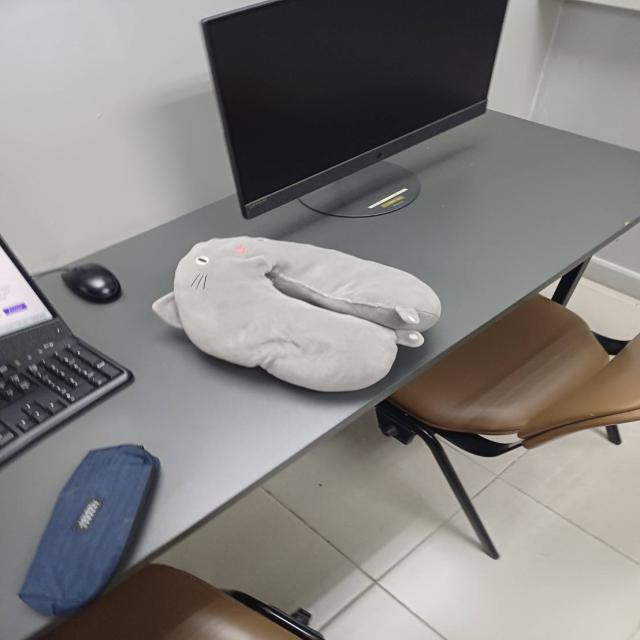pillow: (143, 232, 450, 401)
